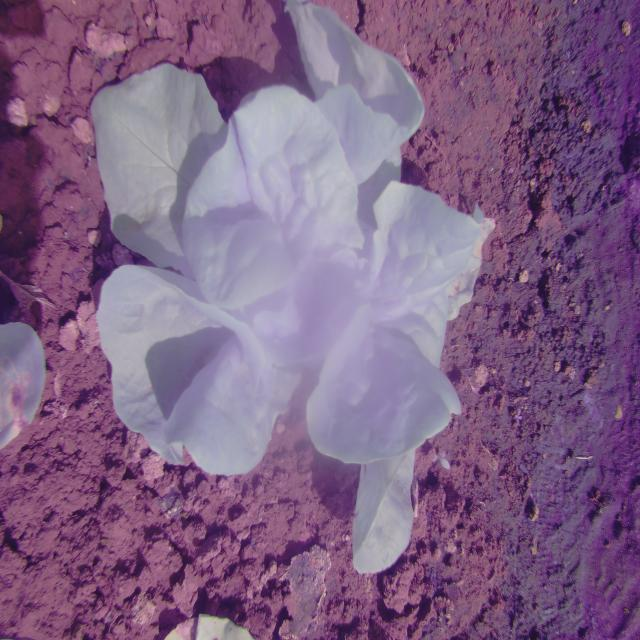vege: (79, 0, 495, 580)
